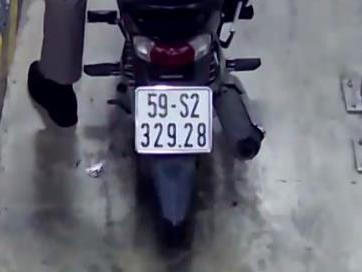num_plate: (134, 85, 213, 153)
